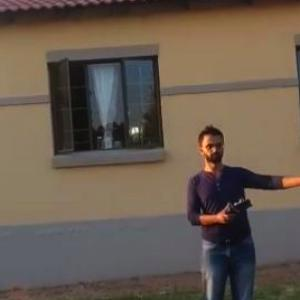follow: (181, 119, 300, 299)
